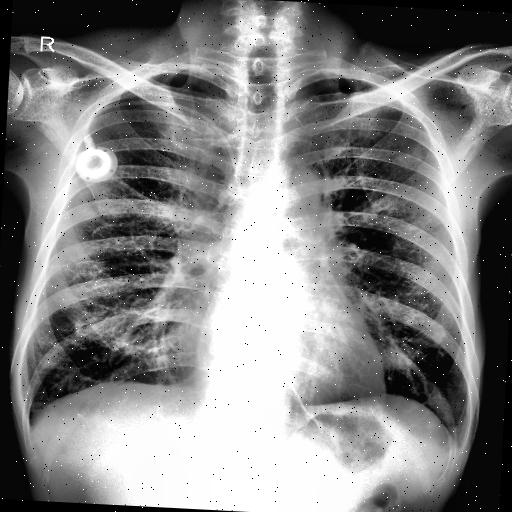13- Pulmonary fibrosis: (394, 146, 424, 168), (356, 124, 388, 140)
7- Lung Opacity: (397, 141, 433, 169), (402, 136, 428, 168)
